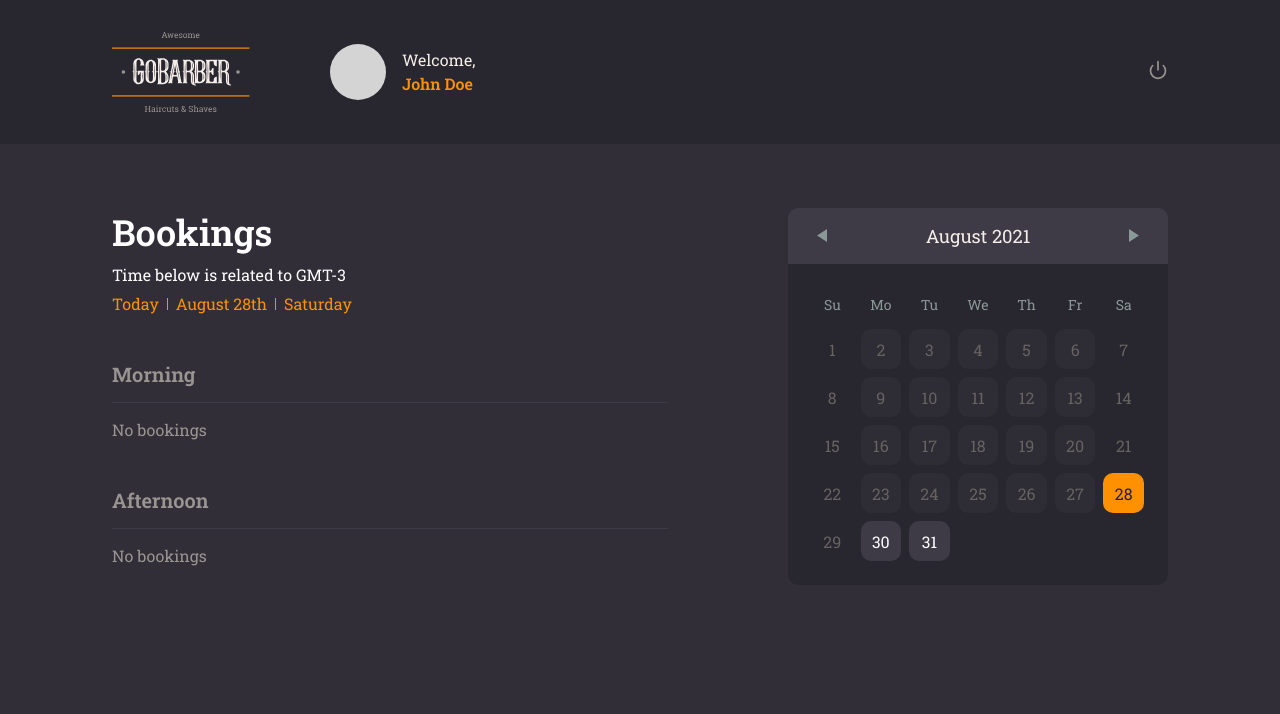
DashboardBarber Page › should be able to change the current month
Click the button named "Next Month".
click(1134, 236)  # box [1124,226,1144,246]
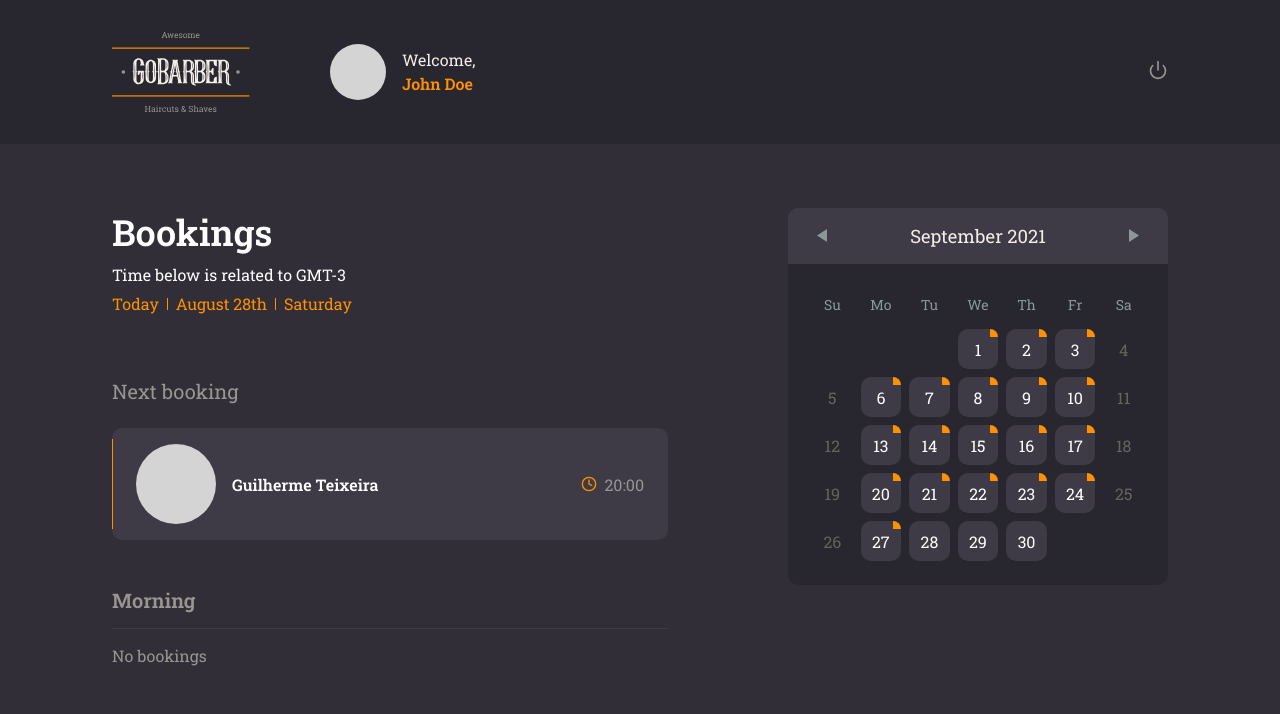
Now the text "August 2021" reads "September 2021", box [910,224,1046,248]
